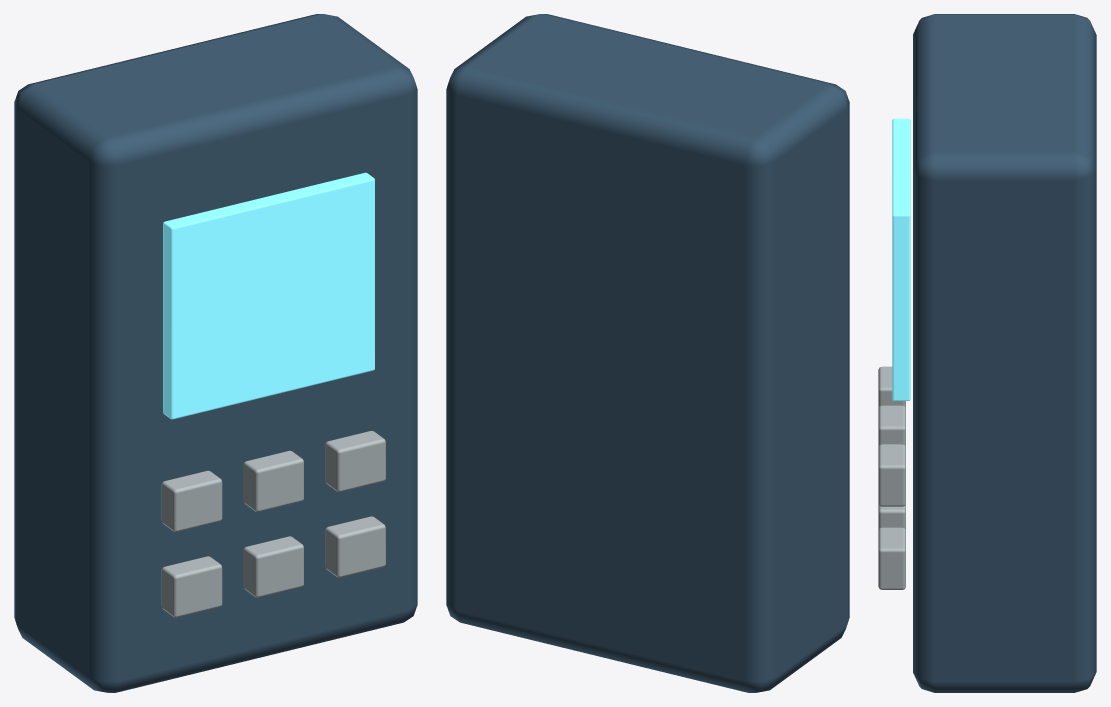
Rendered from container-inspection-and-customs-yard-container-inspec-44652728__29306.glb.
3 views of the same model, side by side, from view 1: azimuth 30°, elevation 25°; view 2: azimuth 150°, elevation 25°; view 3: azimuth 270°, elevation 25° (orthographic). The views are drawn at different scales.
Visible parts, largest first — view 1: container-inspection-and-customs-yard-badge-reader; view 2: container-inspection-and-customs-yard-badge-reader; view 3: container-inspection-and-customs-yard-badge-reader.
Part boxes in pixels (box(x1,y1,x2,y2)): container-inspection-and-customs-yard-badge-reader: box(14, 14, 417, 692); container-inspection-and-customs-yard-badge-reader: box(446, 14, 849, 692); container-inspection-and-customs-yard-badge-reader: box(878, 14, 1096, 692).
Bounding box in the file's own units: 0.16 × 0.26 × 0.095.
